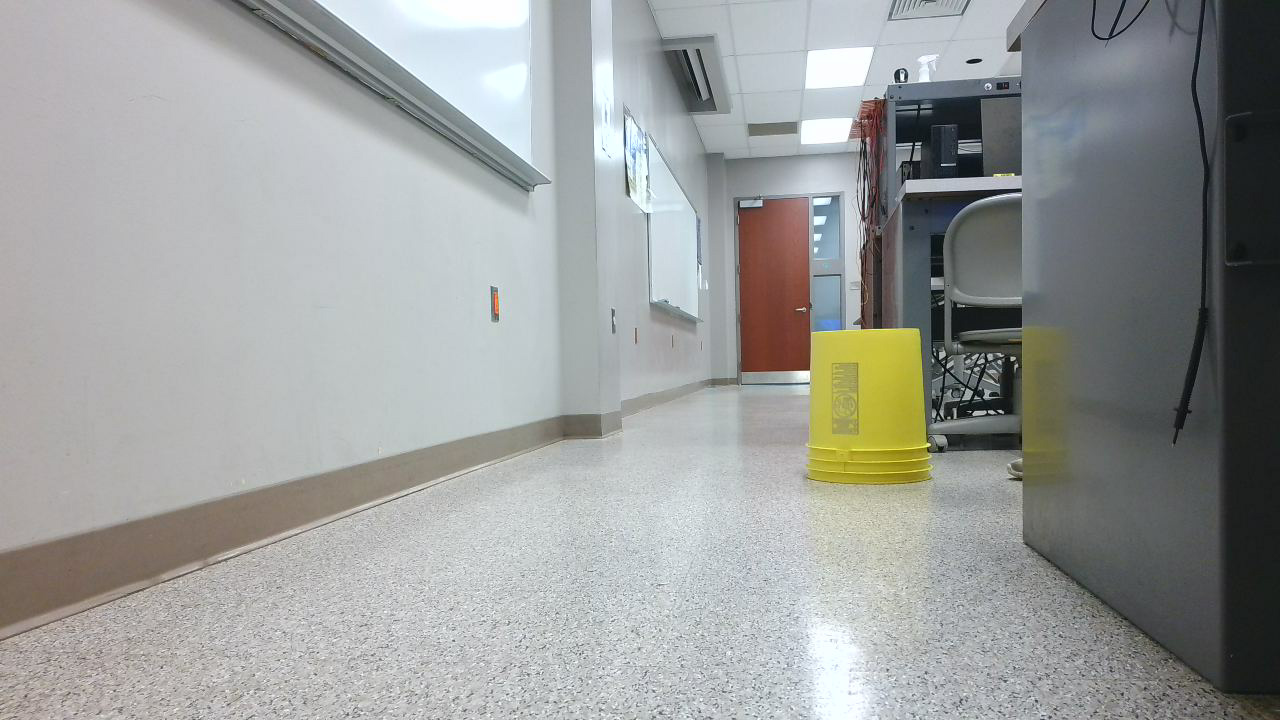yellow_bucket: (806, 329, 944, 496)
